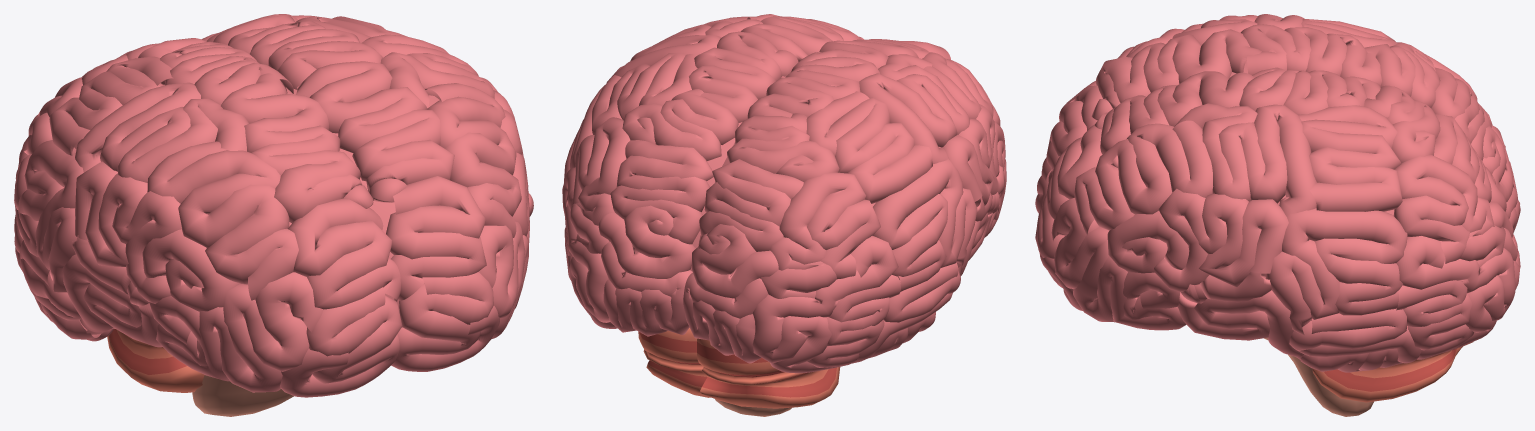
Rendered from cerebro.fbx.
3 views of the same model, side by side, from view 1: azimuth 30°, elevation 25°; view 2: azimuth 150°, elevation 25°; view 3: azimuth 270°, elevation 25° (orthographic). The views are drawn at different scales.
Visible parts, largest first — view 1: Cube.003; view 2: Cube.003; view 3: Cube.003.
Boxes of the visible parts, x1,y1,x2,y2 form: Cube.003: (14,14,533,416); Cube.003: (562,14,1006,416); Cube.003: (1035,14,1520,416).
Size of the model in its own units: 58.2 by 47.84 by 60.73.
